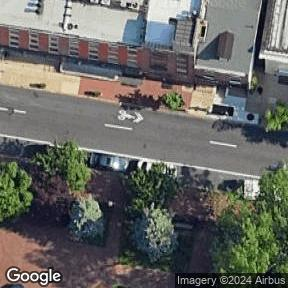vegetation: (28, 134, 121, 256), (216, 163, 288, 270), (124, 162, 182, 268), (0, 161, 35, 224), (162, 90, 183, 109)
